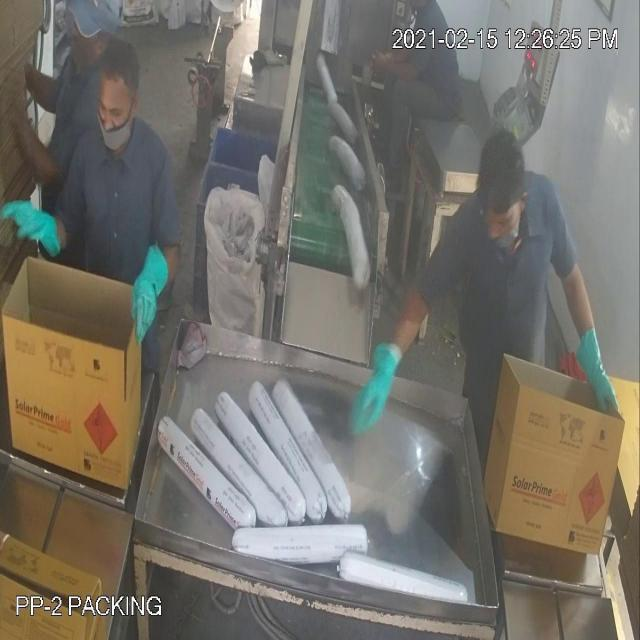Gloves: (32, 44, 595, 386)
